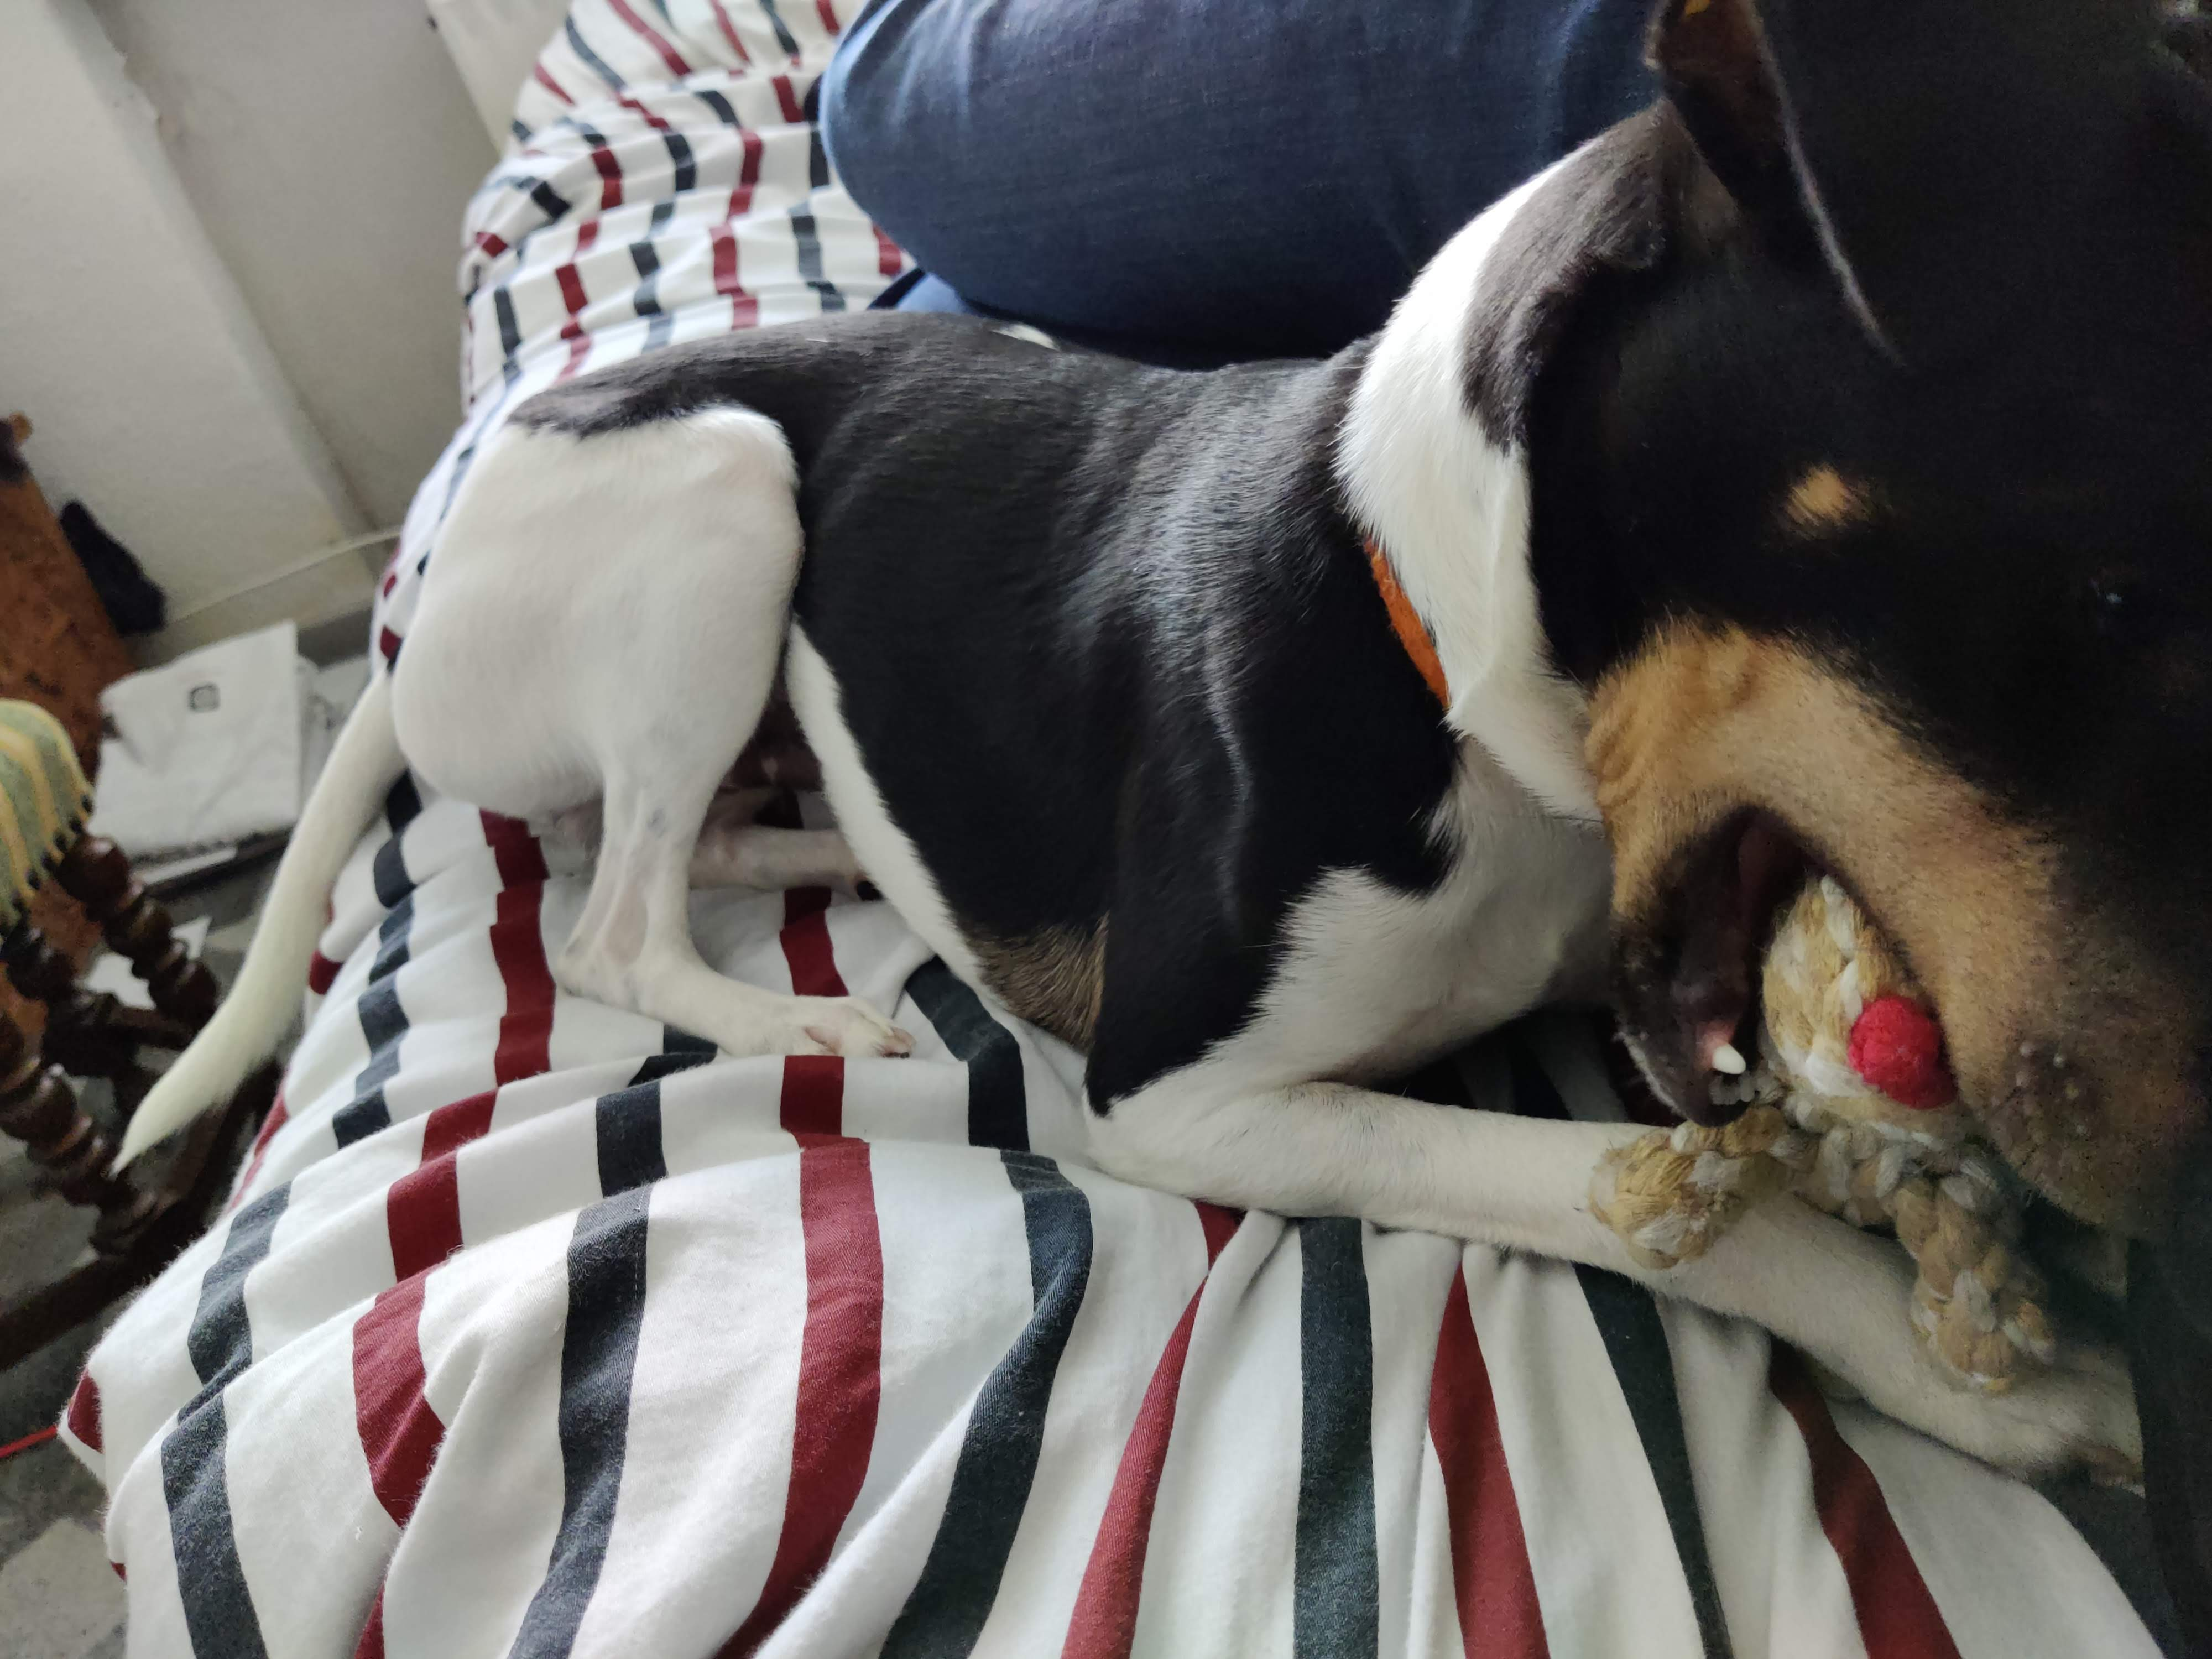Dog: (113, 0, 2212, 1525)
